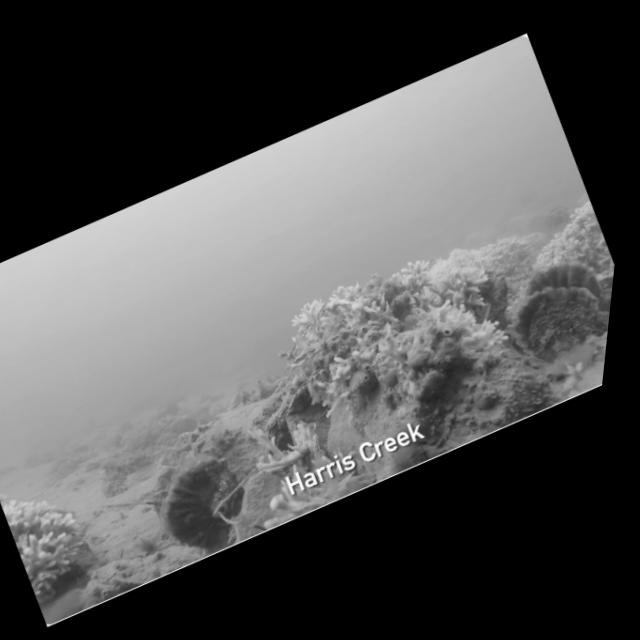Oyster-Closed: (293, 427, 338, 469), (336, 364, 384, 403), (223, 390, 247, 412)
Oyster-Indeterminate: (133, 441, 269, 567), (447, 332, 572, 441), (497, 262, 614, 375), (277, 303, 401, 387), (102, 519, 217, 600), (515, 235, 613, 308), (218, 456, 304, 529), (236, 394, 316, 470), (401, 357, 472, 416), (278, 376, 326, 418), (92, 465, 129, 500), (166, 410, 202, 442), (112, 448, 149, 477), (203, 392, 238, 421), (103, 428, 130, 452), (111, 417, 138, 438), (155, 446, 178, 467)
